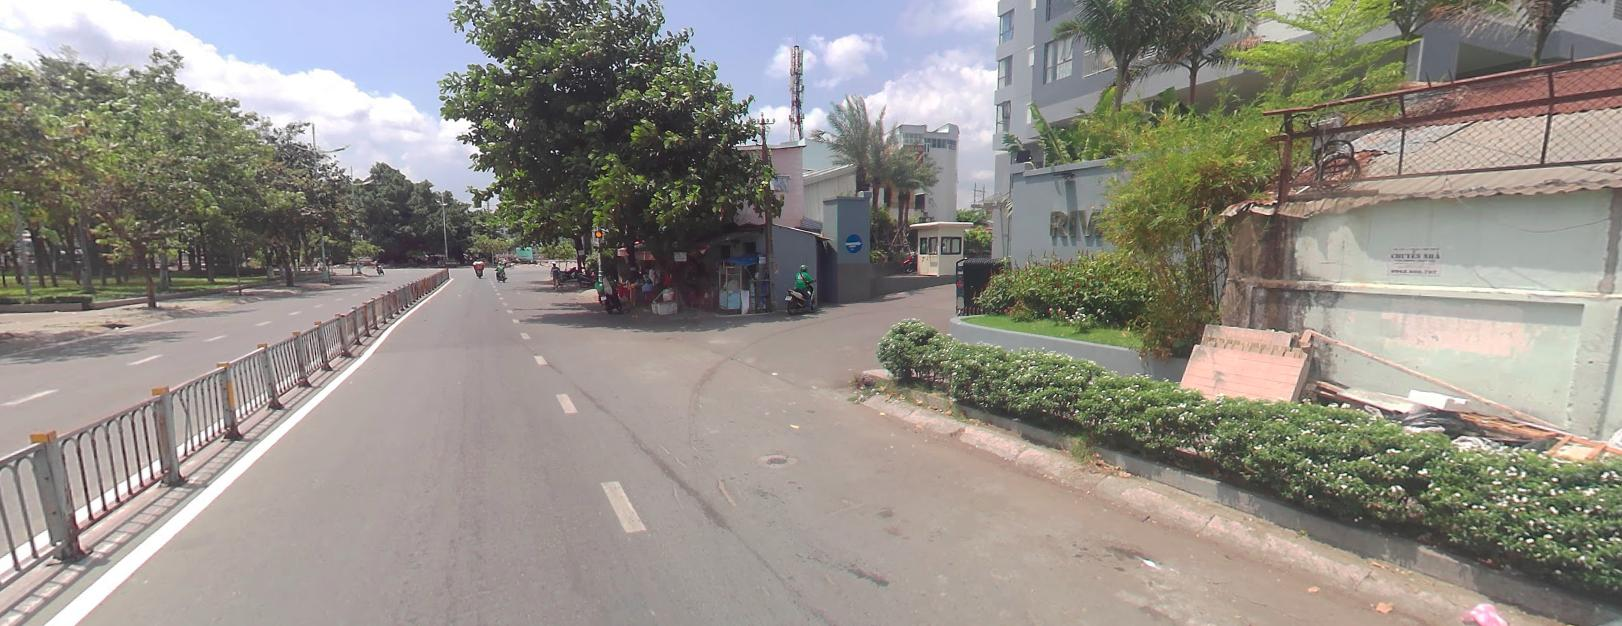Hieu lenh: (845, 231, 862, 250)
